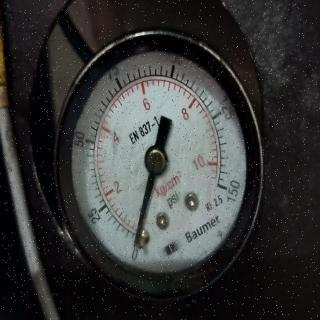gauge: (50, 1, 270, 319), (120, 224, 156, 264), (141, 144, 171, 176), (210, 172, 238, 202), (128, 236, 144, 252)
